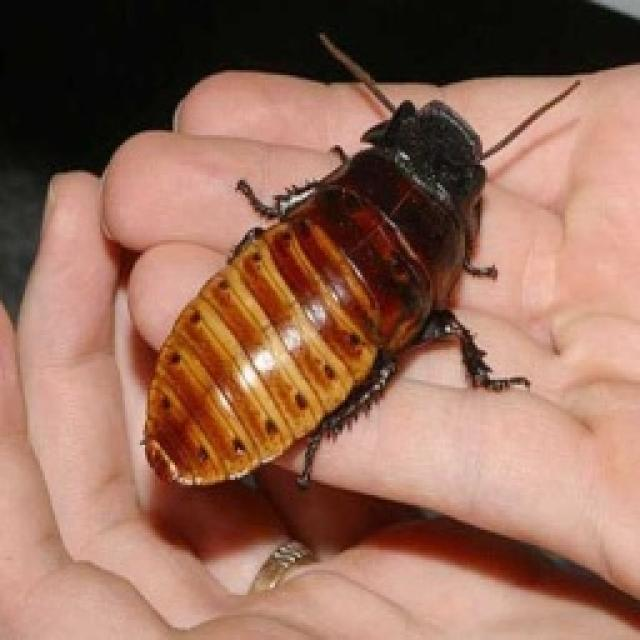cockroach: (130, 50, 562, 527)
